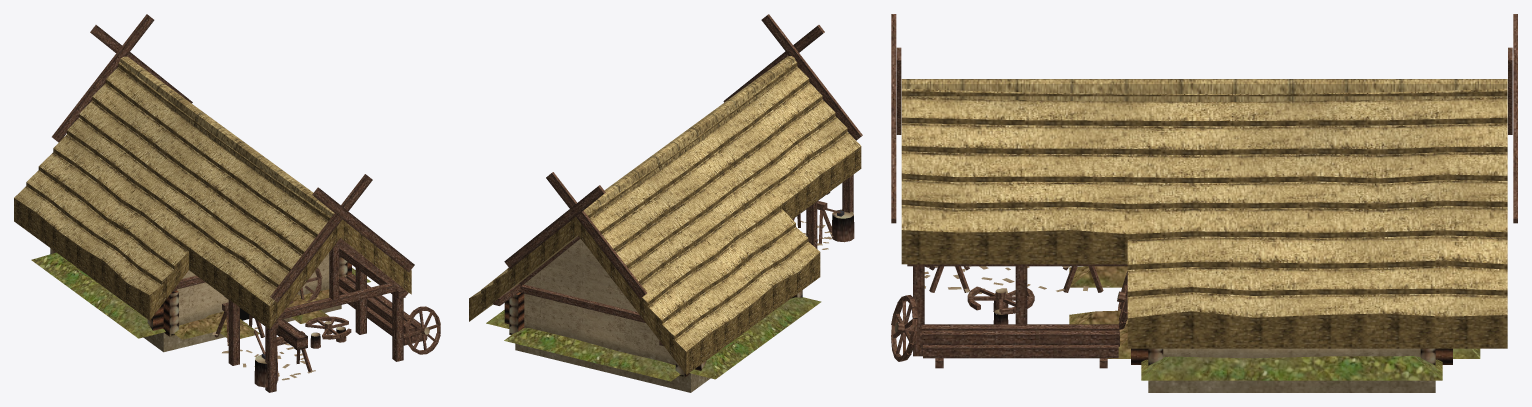
The model's file is tesar.glb.
The picture shows the model from 3 angles, left to right: view 1: azimuth 30°, elevation 25°; view 2: azimuth 150°, elevation 25°; view 3: azimuth 270°, elevation 25°; orthographic projection. The views are drawn at different scales.
Parts seen in each view (by area): view 1: tesar; view 2: tesar; view 3: tesar.
Part boxes in pixels (x1,y1,x2,y2): tesar: [14, 14, 440, 392]; tesar: [469, 14, 862, 392]; tesar: [891, 14, 1517, 392].
Bounding box in the file's own units: 5.5 × 4.86 × 9.16.
Materials: 1 (1 with a texture image).
